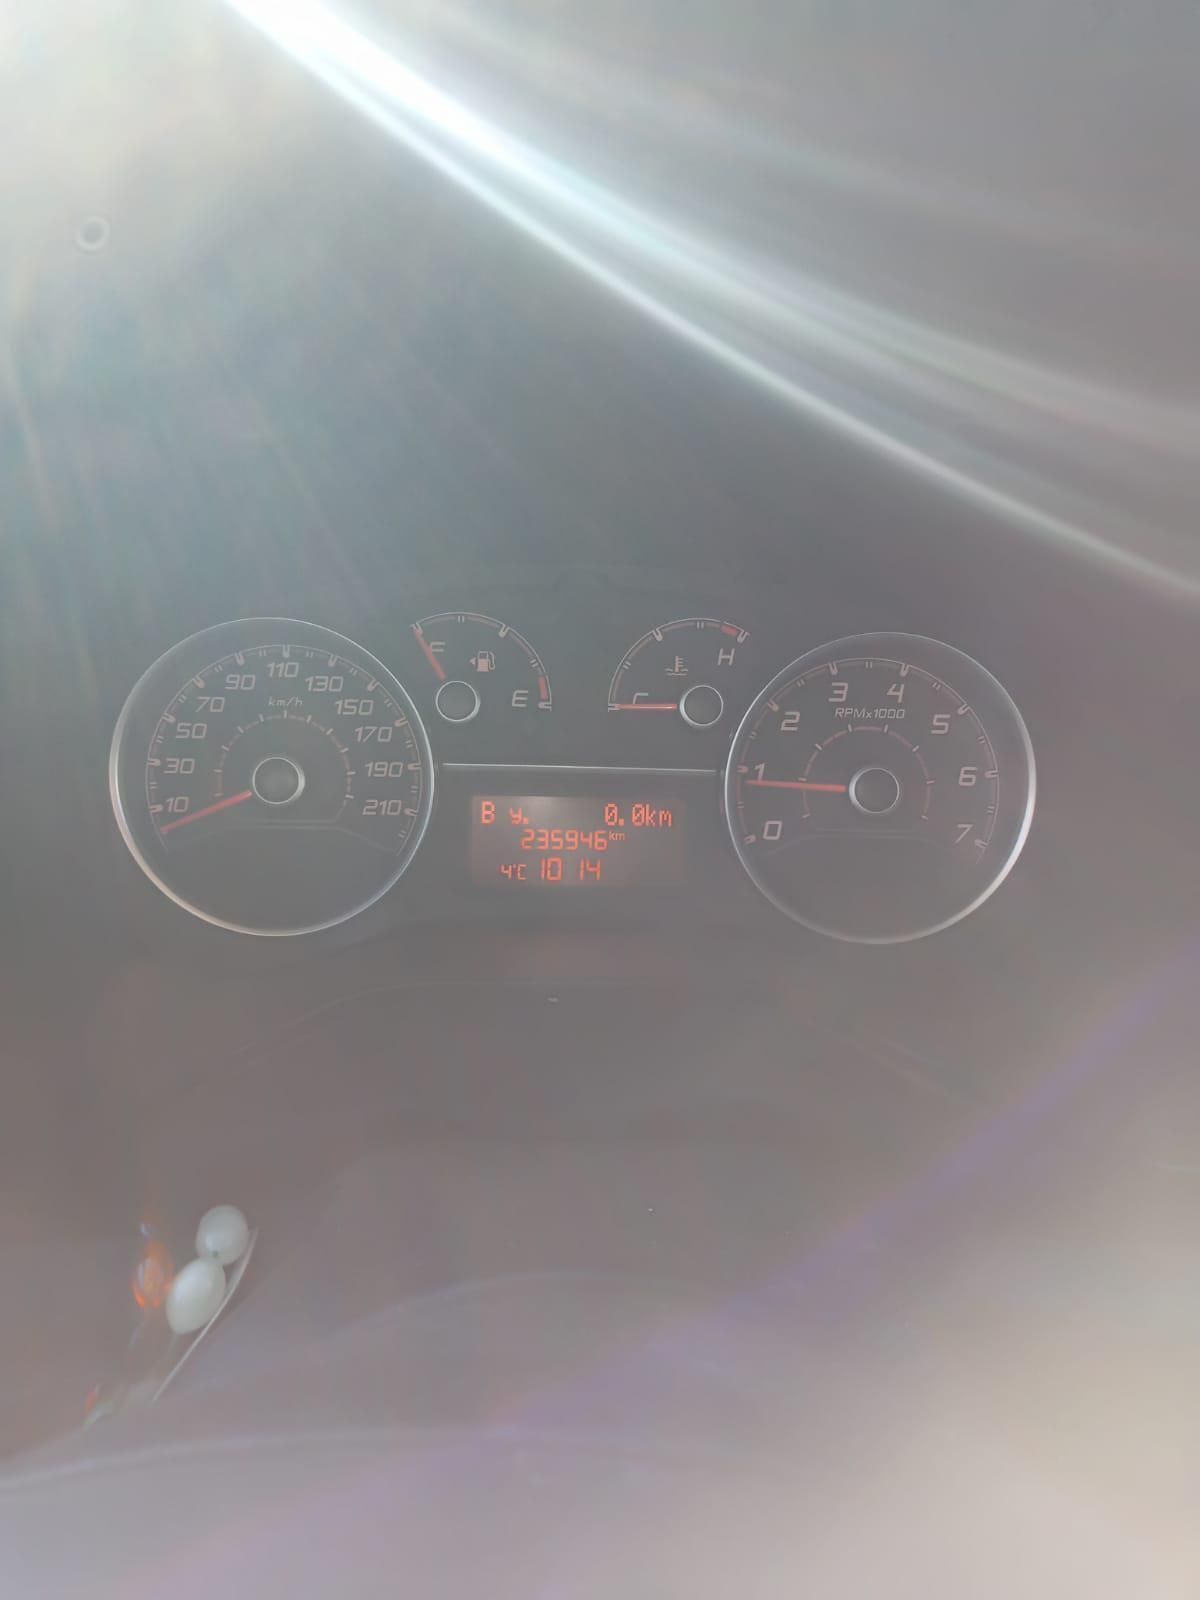,: (618, 816, 625, 826), (522, 816, 529, 824)
0: (546, 855, 562, 881), (604, 803, 616, 826), (632, 803, 644, 826)
1: (579, 857, 585, 881), (539, 857, 546, 879)
2: (521, 828, 534, 849)
3: (534, 828, 550, 850)
4: (585, 858, 601, 879), (580, 831, 592, 850), (500, 863, 512, 879)
5: (550, 829, 563, 850)
6: (594, 830, 608, 850)
9: (563, 829, 579, 850)
X: (480, 800, 495, 824), (644, 803, 657, 826), (657, 809, 672, 828), (508, 806, 522, 824), (517, 863, 527, 879), (615, 831, 625, 842), (608, 830, 615, 840)
odometer: (464, 790, 695, 891)
